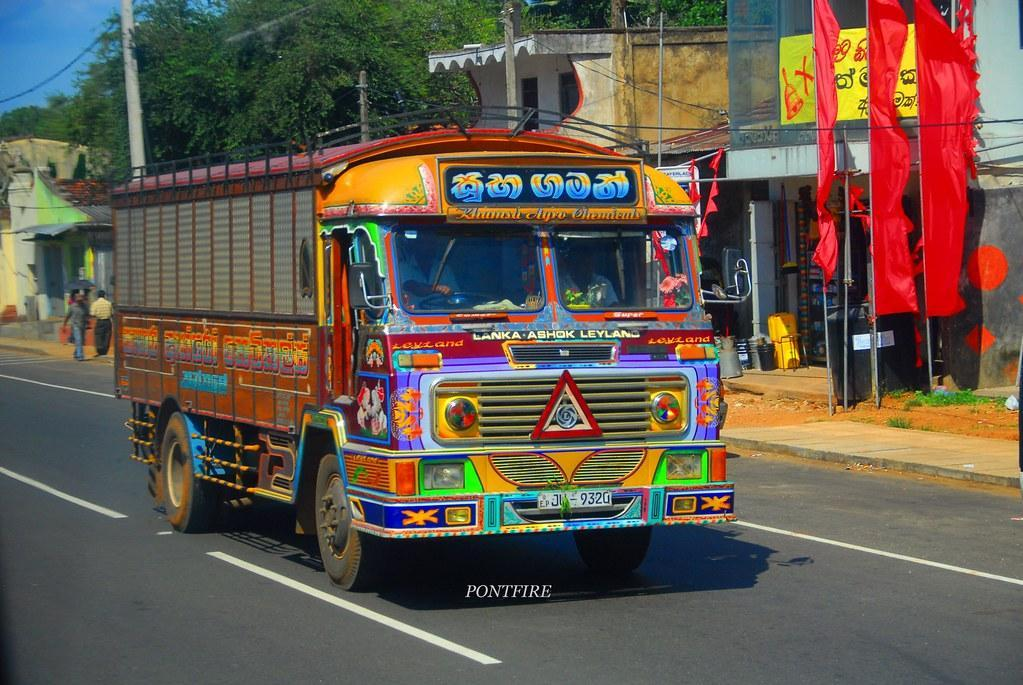truck: (111, 108, 736, 589)
